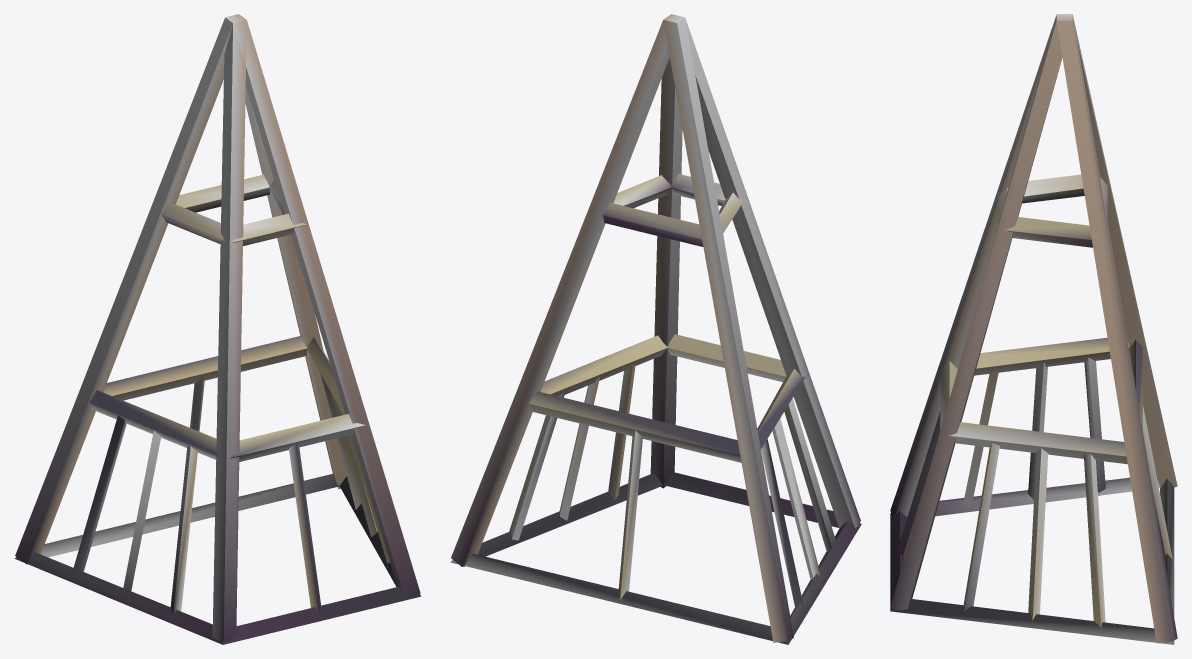
Rendered from masenitsag1V3.fbx.
3 renders of one model, left to right at view 1: azimuth 30°, elevation 25°; view 2: azimuth 150°, elevation 25°; view 3: azimuth 270°, elevation 25°, orthographic.
Visible parts, largest first — view 1: Plane.008; view 2: Plane.008; view 3: Plane.008.
Boxes of the visible parts, <box> form: Plane.008: <box>14,14,421,644</box>; Plane.008: <box>450,14,861,644</box>; Plane.008: <box>890,14,1177,644</box>.
Size of the model in its own units: 260 by 403 by 191.
